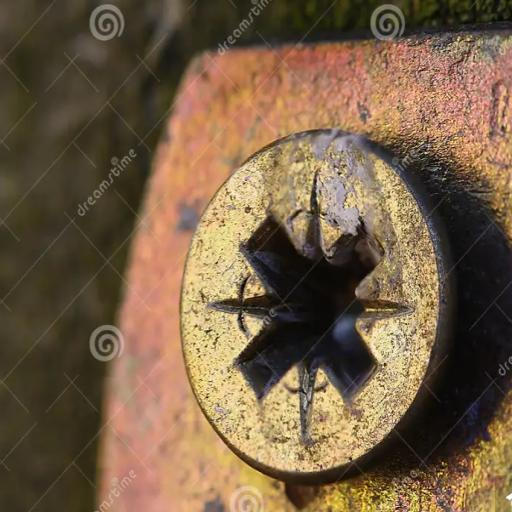Phillips: (183, 128, 450, 477)
